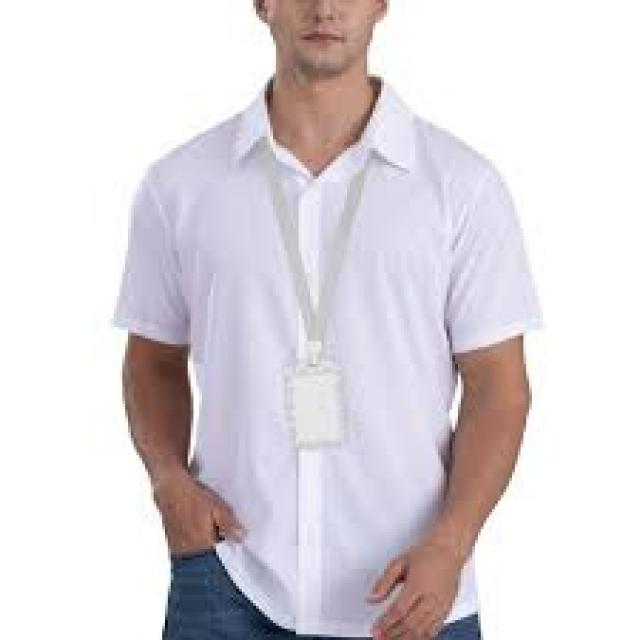id_card: (249, 125, 372, 455)
